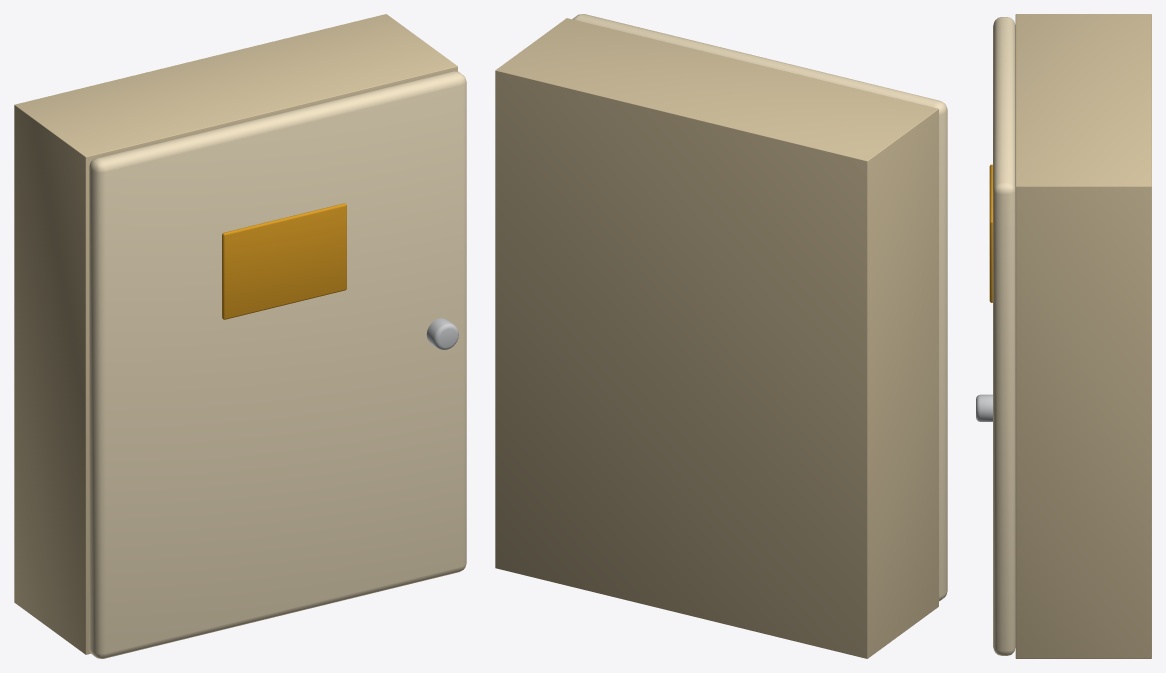
The model's file is electric_panel.glb.
The picture shows the model from 3 angles, left to right: view 1: azimuth 30°, elevation 25°; view 2: azimuth 150°, elevation 25°; view 3: azimuth 270°, elevation 25°; orthographic projection. The views are drawn at different scales.
Parts seen in each view (by area): view 1: electric_panel_door, electric_panel; view 2: electric_panel, electric_panel_door; view 3: electric_panel, electric_panel_door.
Boxes of the visible parts, <box> form: electric_panel_door: <box>89,71,466,658</box>; electric_panel: <box>14,14,457,654</box>; electric_panel: <box>495,18,938,658</box>; electric_panel_door: <box>572,14,947,601</box>; electric_panel: <box>1015,14,1151,658</box>; electric_panel_door: <box>976,17,1015,655</box>.
Bounding box in the file's own units: 0.36 × 0.46 × 0.155.
